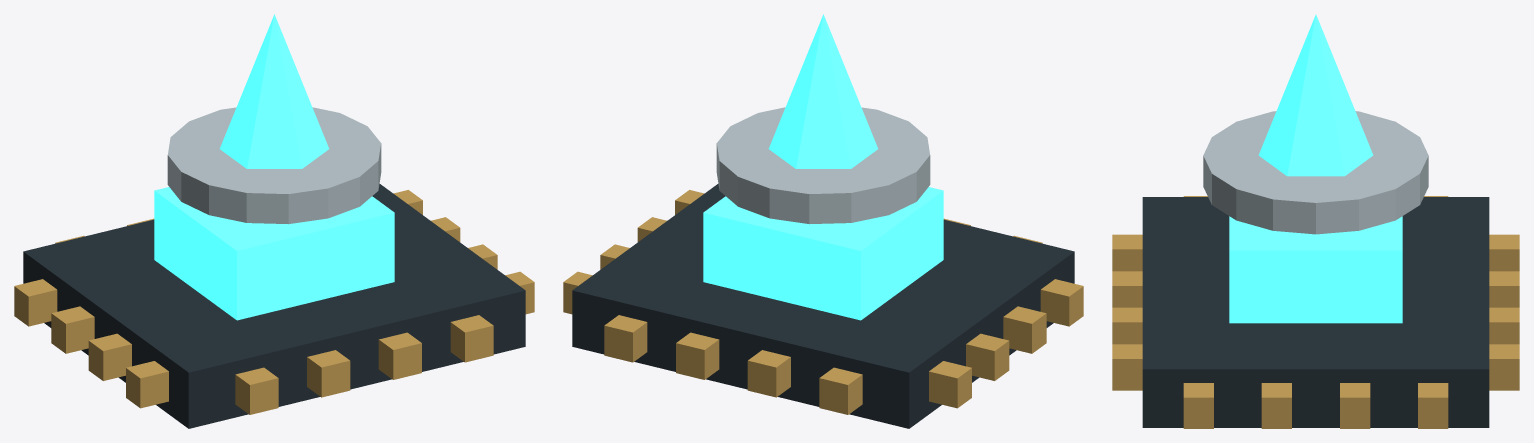
File: plugin-algorithm-support.glb
The picture shows the model from 3 angles, left to right: view 1: azimuth 30°, elevation 25°; view 2: azimuth 150°, elevation 25°; view 3: azimuth 270°, elevation 25°; orthographic projection. The views are drawn at different scales.
Visible parts, largest first — view 1: plugin circuit substrate, processor block, support crystal ring, support crystal, gold edge connector.008, gold edge connector.009, gold edge connector.011, gold edge connector.010, gold edge connector, gold edge connector.001, gold edge connector.003, gold edge connector.002 (+1 smaller); view 2: plugin circuit substrate, processor block, support crystal ring, support crystal, gold edge connector.012, gold edge connector.013, gold edge connector.015, gold edge connector.014, gold edge connector.003, gold edge connector.002, gold edge connector, gold edge connector.001 (+1 smaller); view 3: plugin circuit substrate, support crystal ring, processor block, support crystal, gold edge connector.011, gold edge connector.015, gold edge connector.004, gold edge connector.005, gold edge connector.006, gold edge connector.007, gold edge connector.008, gold edge connector.010 (+4 smaller).
Part boxes in pixels (x1,y1,x2,y2): plugin circuit substrate: (23, 184, 525, 428); processor block: (154, 187, 394, 320); support crystal ring: (167, 107, 381, 224); support crystal: (219, 14, 329, 168); gold edge connector.008: (235, 367, 278, 414); gold edge connector.009: (307, 350, 350, 397); gold edge connector.011: (450, 315, 493, 362); gold edge connector.010: (378, 332, 421, 379); gold edge connector: (126, 361, 168, 408); gold edge connector.001: (88, 333, 131, 380); gold edge connector.003: (14, 279, 57, 326); gold edge connector.002: (51, 306, 94, 353); plugin circuit substrate: (572, 184, 1074, 428); processor block: (703, 187, 943, 320); support crystal ring: (716, 107, 930, 224); support crystal: (768, 14, 878, 168); gold edge connector.012: (819, 367, 862, 414); gold edge connector.013: (747, 350, 790, 397); gold edge connector.015: (604, 315, 647, 362); gold edge connector.014: (676, 332, 719, 379); gold edge connector.003: (929, 361, 971, 408); gold edge connector.002: (966, 333, 1009, 380); gold edge connector: (1040, 279, 1083, 326); gold edge connector.001: (1003, 306, 1046, 353); plugin circuit substrate: (1142, 197, 1489, 427); support crystal ring: (1203, 111, 1428, 234); processor block: (1229, 216, 1402, 323); support crystal: (1258, 14, 1373, 176); gold edge connector.011: (1112, 344, 1142, 390); gold edge connector.015: (1489, 344, 1519, 390); gold edge connector.004: (1183, 383, 1213, 428); gold edge connector.005: (1261, 383, 1291, 428); gold edge connector.006: (1340, 383, 1370, 428); gold edge connector.007: (1418, 383, 1448, 428); gold edge connector.008: (1112, 234, 1142, 271); gold edge connector.010: (1112, 307, 1142, 344).
Bounding box in the file's own units: 1.1 × 0.835 × 0.94.
